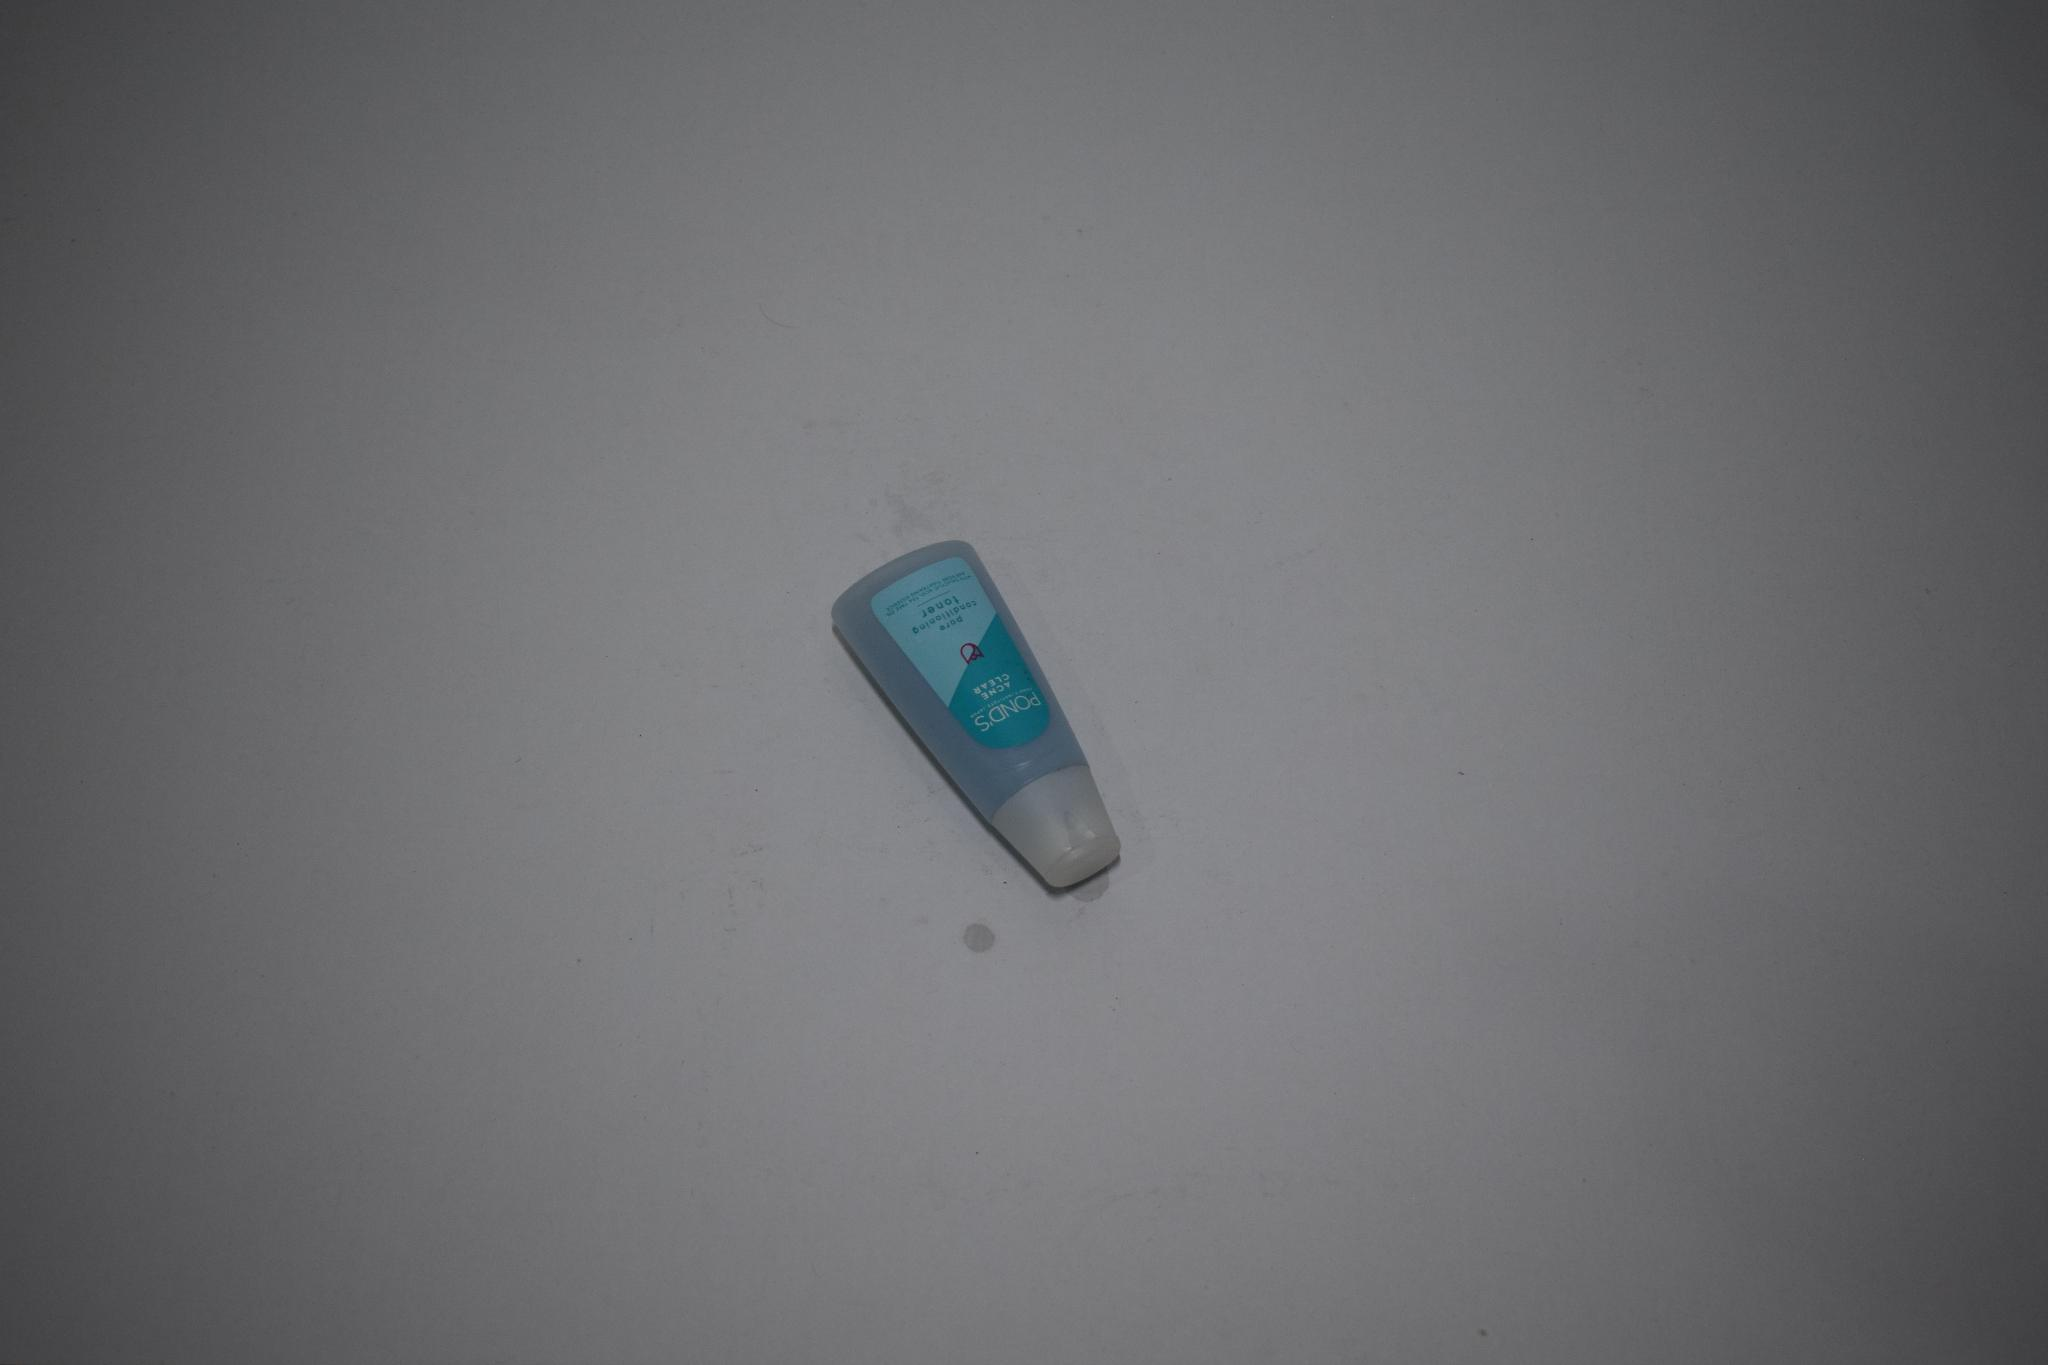bottle: (828, 519, 1127, 926)
